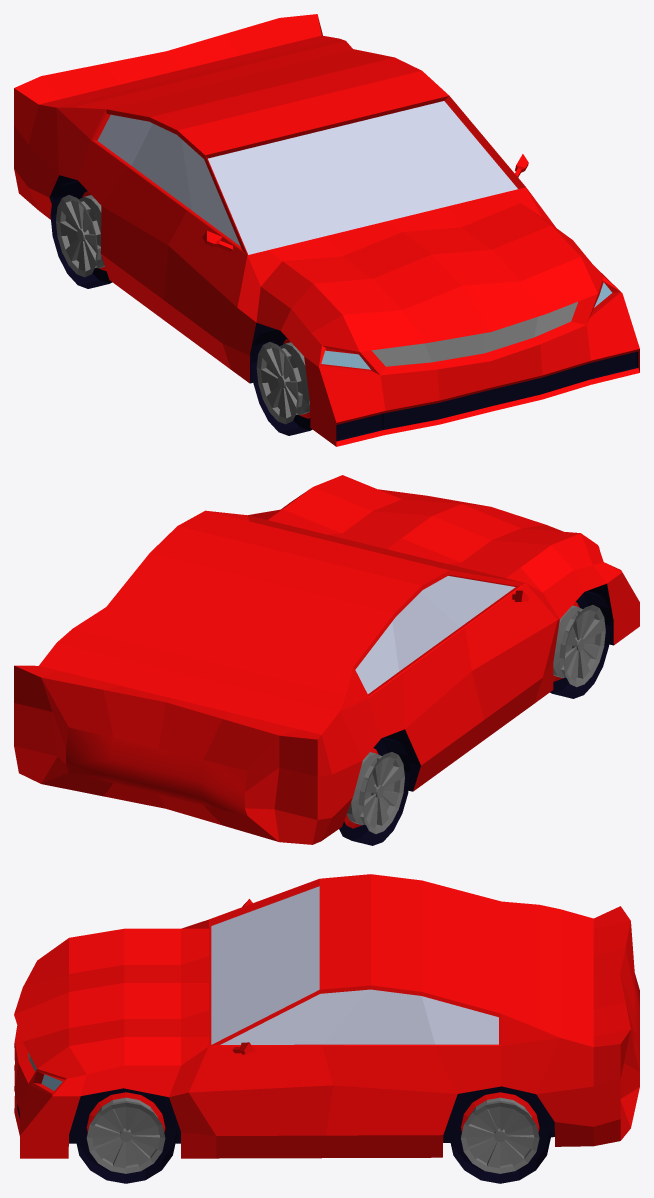
Rendered from CarRed.fbx.
3 views of the same model, one above another, from view 1: azimuth 30°, elevation 25°; view 2: azimuth 150°, elevation 25°; view 3: azimuth 270°, elevation 25° (orthographic). The views are drawn at different scales.
Parts seen in each view (by area): view 1: Cube; view 2: Cube; view 3: Cube.
Boxes of the visible parts, bbox=[...] form: Cube: bbox=[14, 14, 639, 446]; Cube: bbox=[14, 475, 639, 845]; Cube: bbox=[14, 874, 639, 1183].
Bounding box in the file's own units: 243 × 143 × 439.
